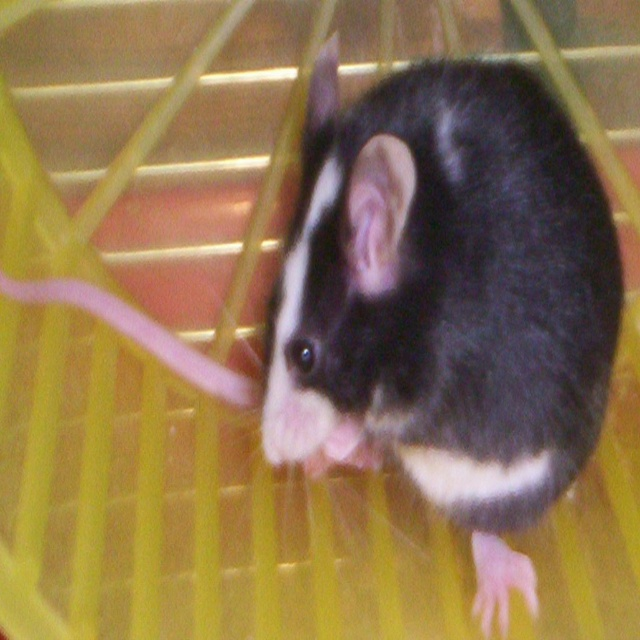Mouse: (265, 56, 618, 632)
